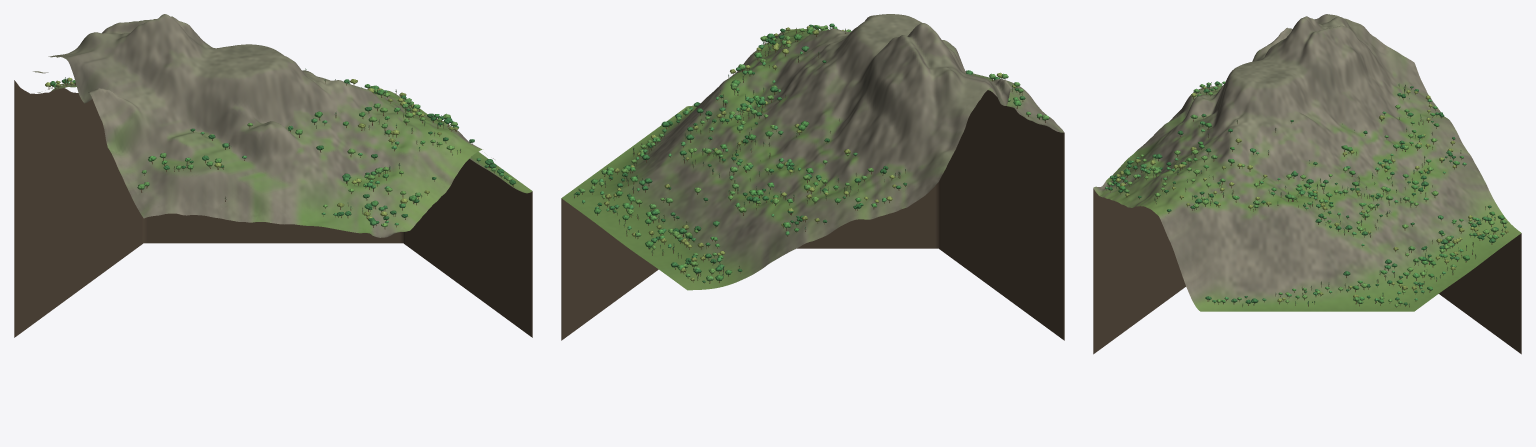
3 renders of one model, left to right at view 1: azimuth 30°, elevation 25°; view 2: azimuth 150°, elevation 25°; view 3: azimuth 270°, elevation 25°, orthographic. The views are drawn at different scales.
Visible parts, largest first — view 1: terrain, hex_side_cut, broadleaf_canopy, trunks; view 2: terrain, hex_side_cut, broadleaf_canopy, trunks; view 3: terrain, hex_side_cut, broadleaf_canopy, trunks.
Boxes of the visible parts, bbox=[...] form: terrain: bbox=[33, 14, 532, 237]; hex_side_cut: bbox=[14, 80, 532, 337]; broadleaf_canopy: bbox=[45, 77, 515, 227]; trunks: bbox=[48, 79, 513, 229]; terrain: bbox=[561, 14, 1064, 290]; hex_side_cut: bbox=[561, 90, 1064, 340]; broadleaf_canopy: bbox=[575, 23, 1049, 282]; trunks: bbox=[574, 26, 1045, 283]; terrain: bbox=[1093, 14, 1521, 311]; hex_side_cut: bbox=[1093, 188, 1521, 354]; broadleaf_canopy: bbox=[1105, 81, 1508, 306]; trunks: bbox=[1106, 85, 1506, 307].
Bounding box in the file's own units: 4330 × 3752 × 5000.
6 materials, 1 textured.
